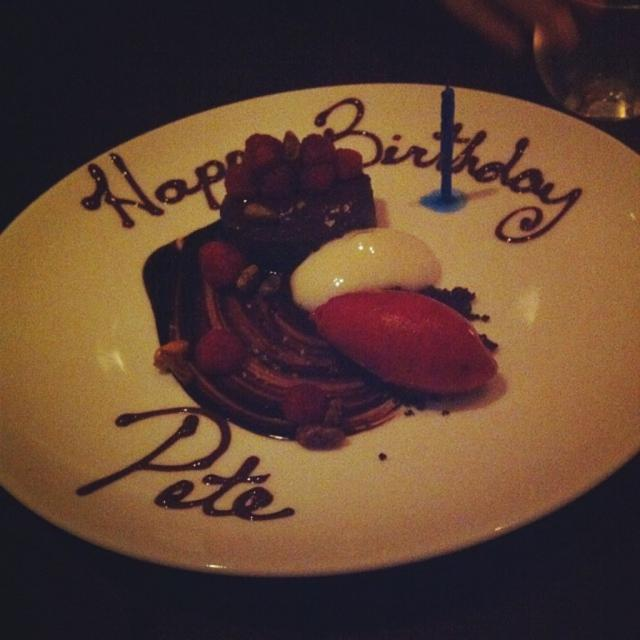non-organic waste: (19, 53, 640, 591)
